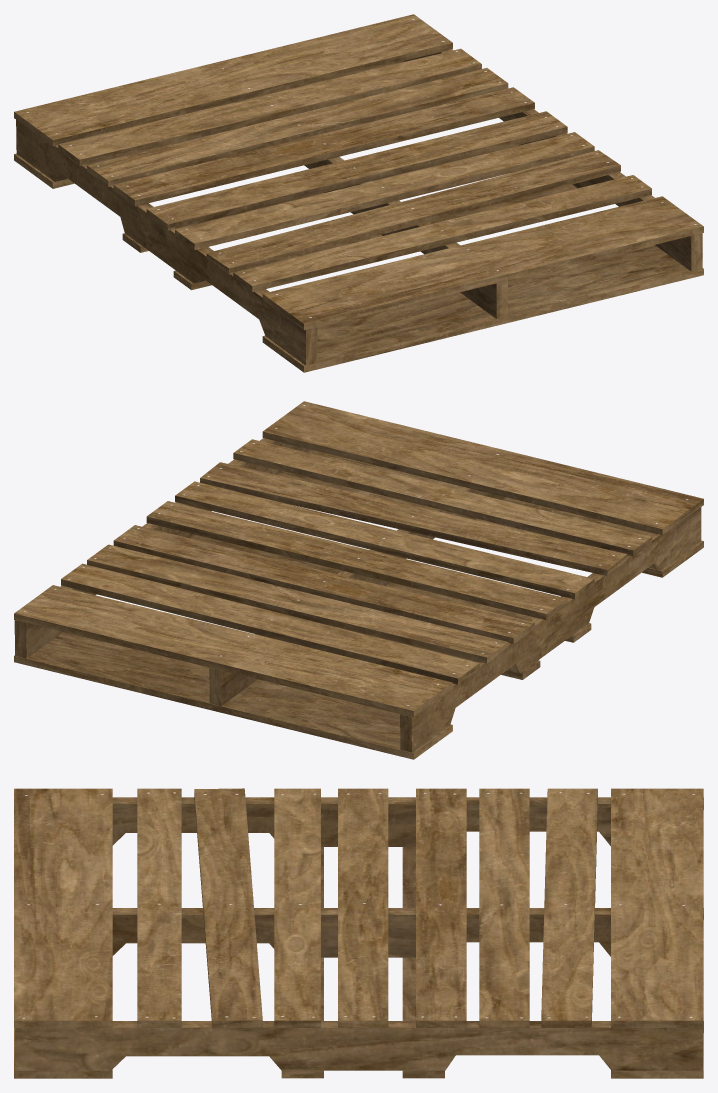
The model's file is SM_Pallet_01.glb.
3 views of the same model, one above another, from view 1: azimuth 30°, elevation 25°; view 2: azimuth 150°, elevation 25°; view 3: azimuth 270°, elevation 25° (orthographic). The views are drawn at different scales.
Visible parts, largest first — view 1: SM_Pallet_01; view 2: SM_Pallet_01; view 3: SM_Pallet_01.
Boxes of the visible parts, left/top/right/bottom form: SM_Pallet_01: left=14, top=14, right=703, bottom=372; SM_Pallet_01: left=14, top=401, right=703, bottom=759; SM_Pallet_01: left=14, top=788, right=703, bottom=1078.
Bounding box in the file's own units: 1.09 × 0.1259 × 1.36.
Materials: 1 (1 with a texture image).
